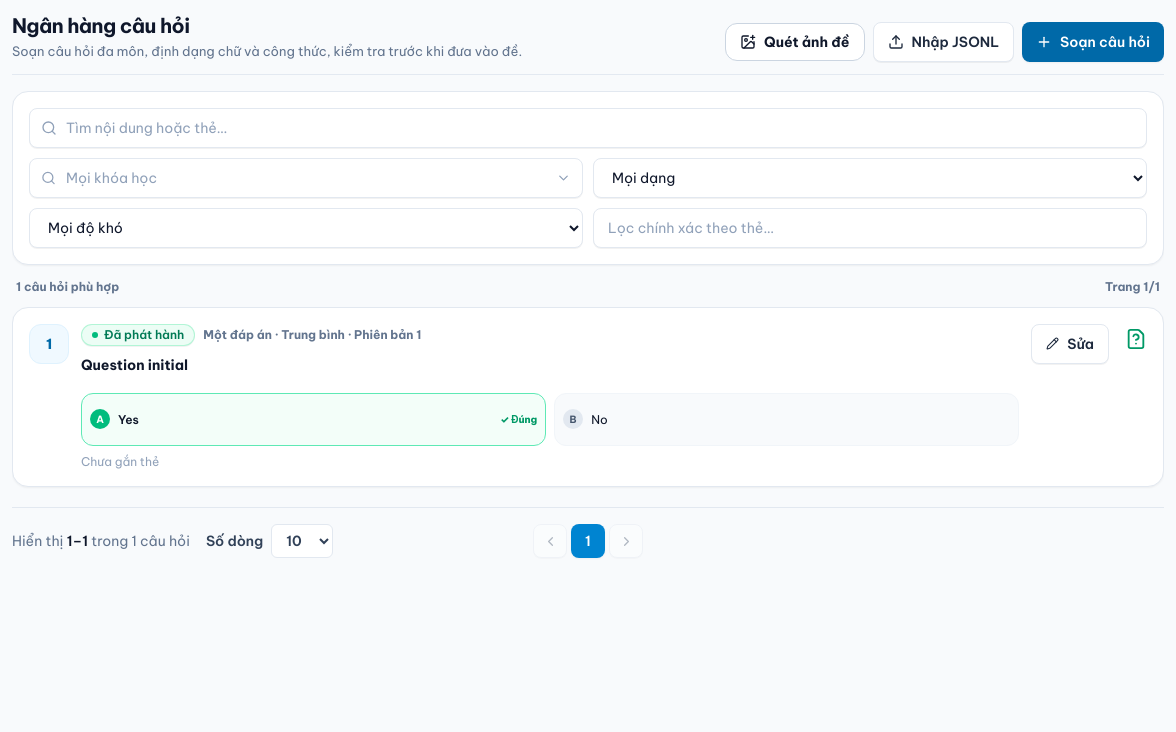
it: QuestionsPage request lifecycle › ignores an older response after the latest search completes
This screenshot has width=1176, height=732.
Type "old" into the field named "Tìm câu hỏi" at (588, 128), box [29,108,1147,148]
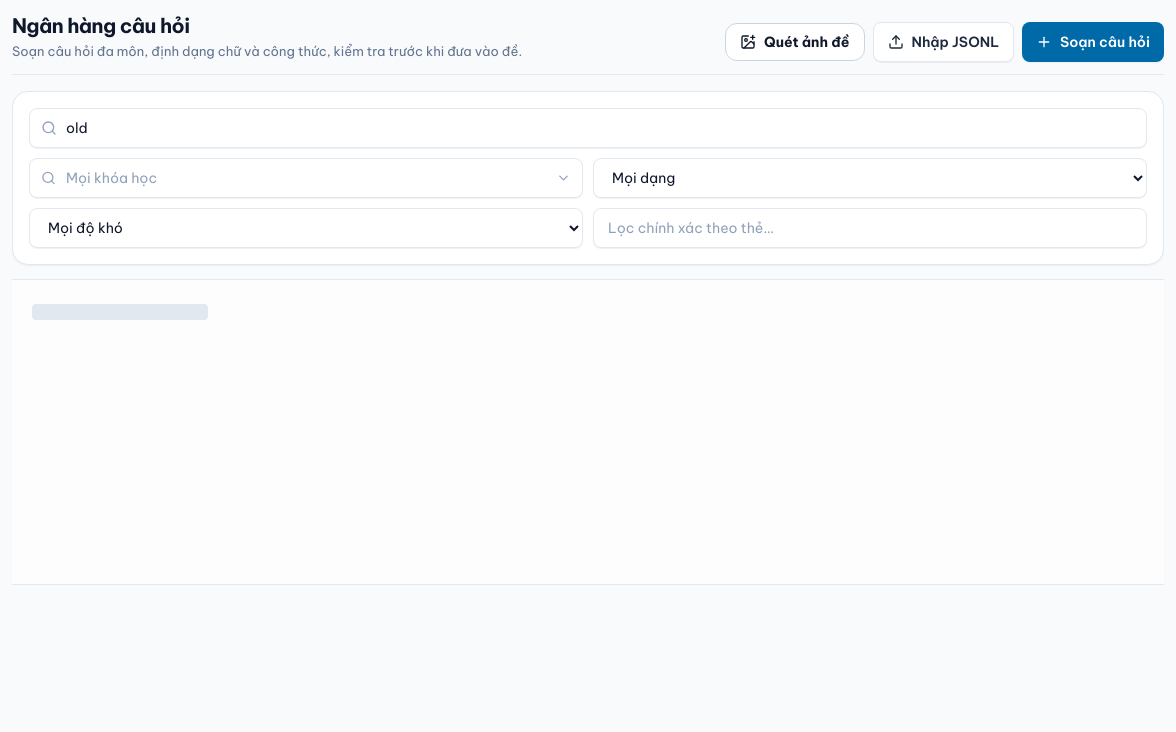
Replace the text in the field named "Tìm câu hỏi" with "new" at (588, 128), box [29,108,1147,148]
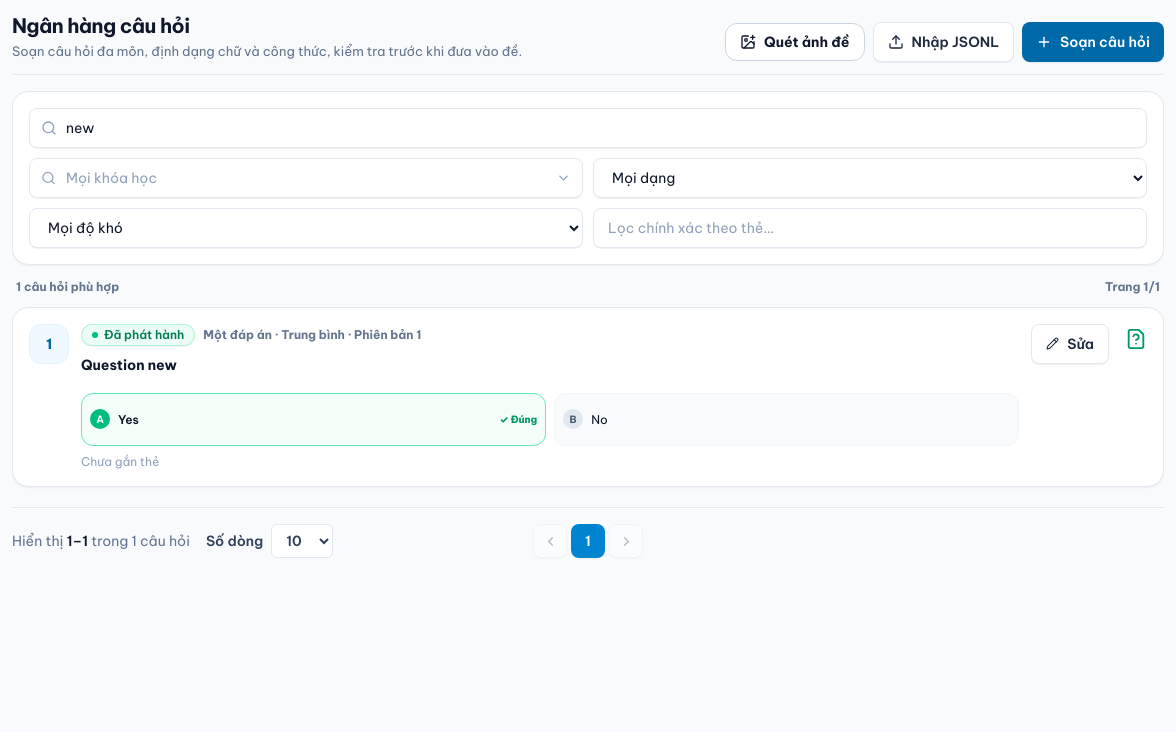
Check: the text "Question new" is shown, box [81,356,177,374]
